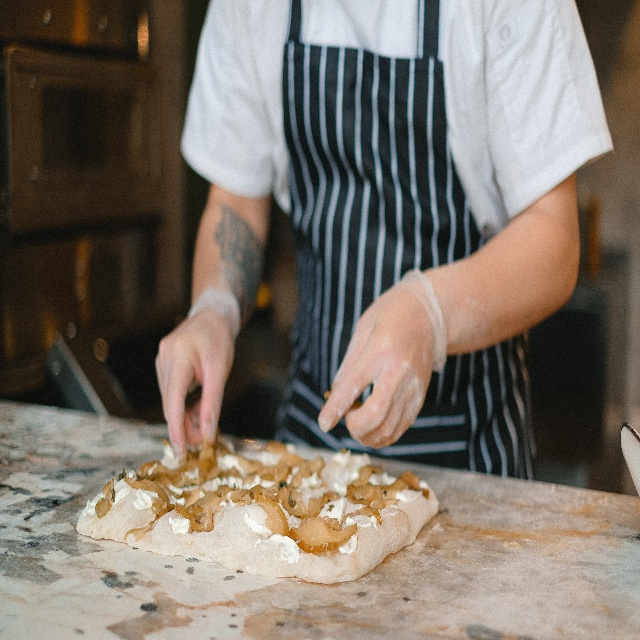Guantes: (315, 267, 450, 451), (151, 285, 242, 463)
Sin_guantes: (318, 272, 439, 448), (153, 303, 237, 463)
